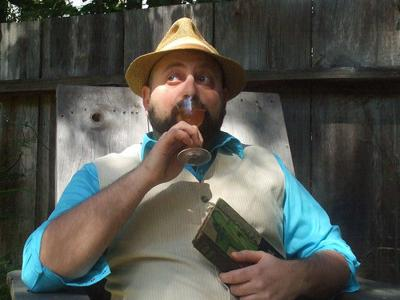person: (18, 16, 362, 300)
